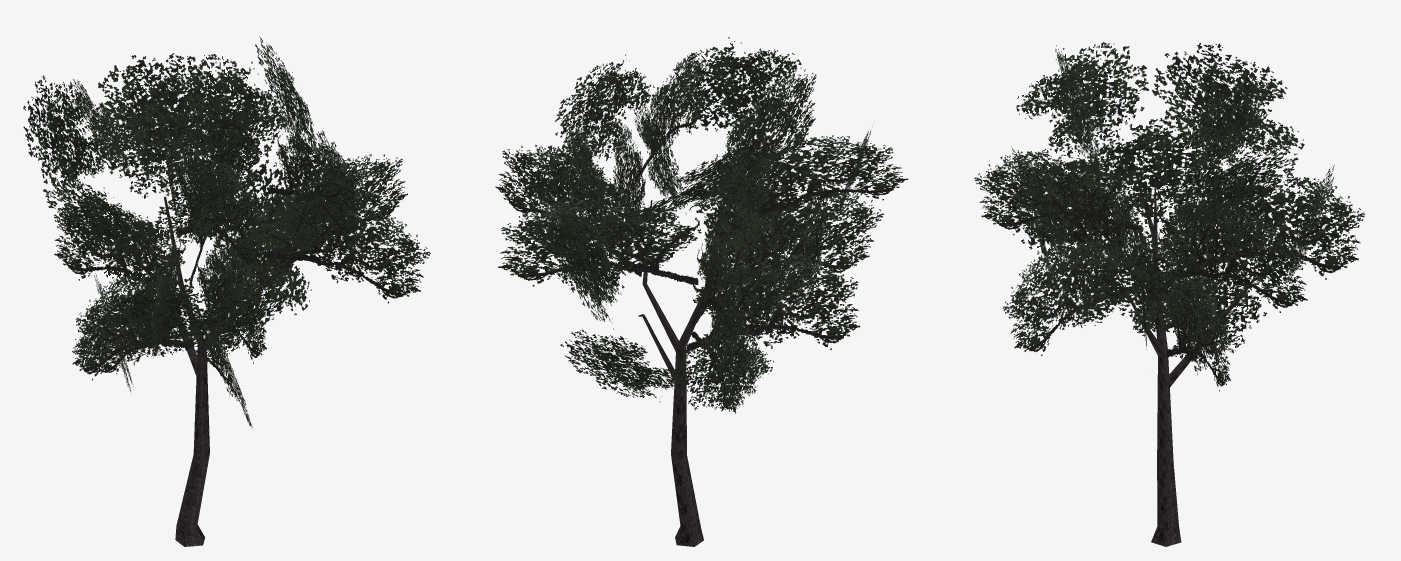
The model's file is stage-metr-p5-1.glb.
3 views of the same model, side by side, from view 1: azimuth 30°, elevation 25°; view 2: azimuth 150°, elevation 25°; view 3: azimuth 270°, elevation 25° (orthographic). The views are drawn at different scales.
Bounding box in the file's own units: 11.42 × 14.36 × 11.39.
3 materials, 3 textured.
